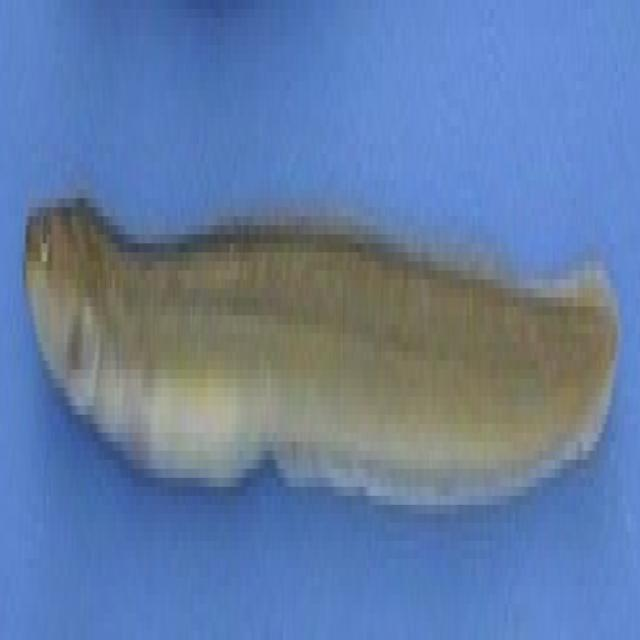Freshwater-Eel: (8, 96, 634, 624)
